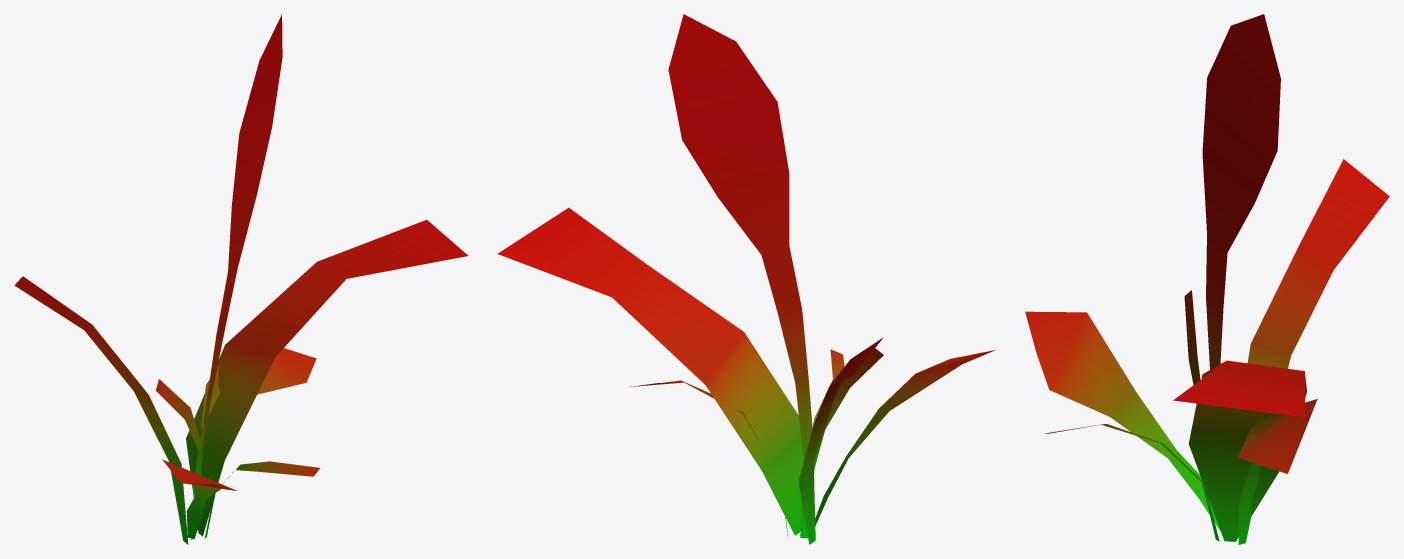
File: Green Herb_LOD2_Var5_tbbpaier.fbx
3 views of the same model, side by side, from view 1: azimuth 30°, elevation 25°; view 2: azimuth 150°, elevation 25°; view 3: azimuth 270°, elevation 25° (orthographic). The views are drawn at different scales.
Visible parts, largest first — view 1: _3c43_Var5_LOD2; view 2: _3c43_Var5_LOD2; view 3: _3c43_Var5_LOD2.
Boxes of the visible parts, box(x1,y1,x2,y2) form: _3c43_Var5_LOD2: box(14, 14, 468, 544); _3c43_Var5_LOD2: box(497, 14, 995, 544); _3c43_Var5_LOD2: box(1025, 14, 1389, 544).
Size of the model in its own units: 11.18 by 13.55 by 7.61.
